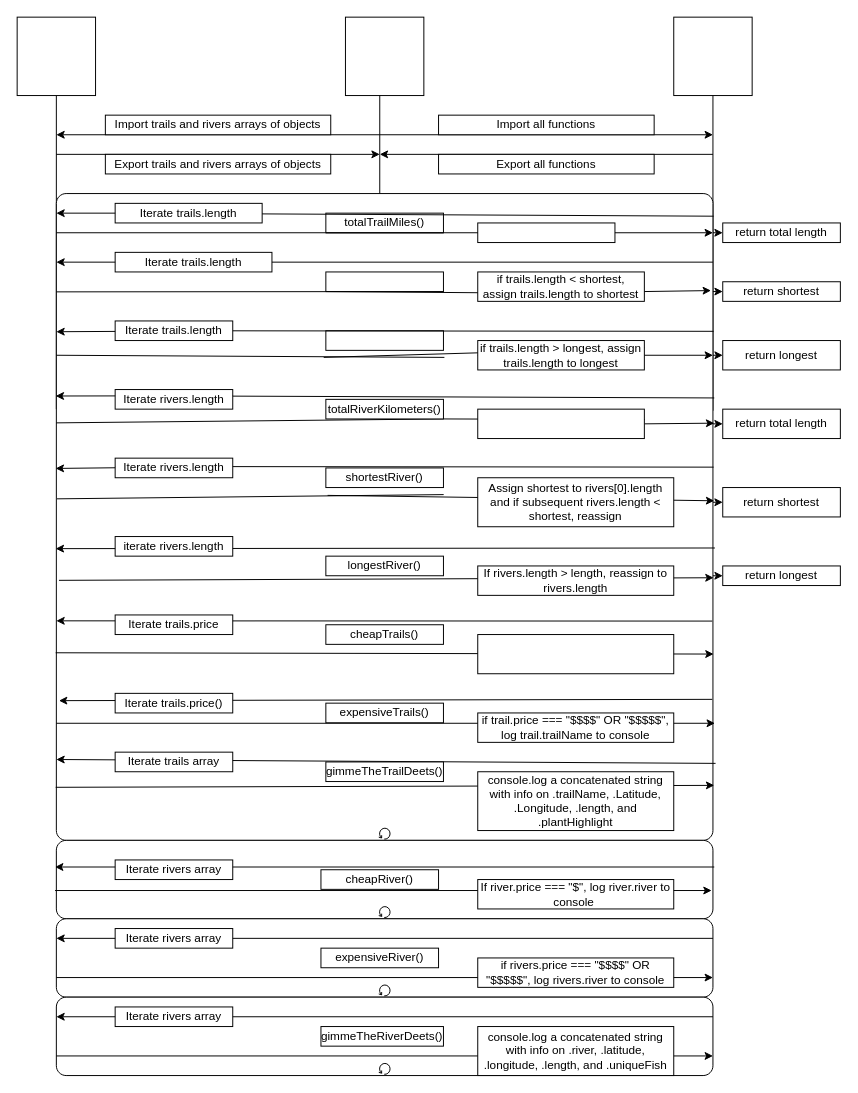
This 858x1093 diagram has some shape labels left out. The centre of each missing label's shape, as x and y in pixels:
Add rivers.length to total: the point at 560,423
Add trail.length to total: the point at 546,232
adventure.js: the point at 384,56
data.js: the point at 56,56
function.js: the point at 712,56
If trail.price === "&", log trail.trailName to console: the point at 575,654
longTrail(): the point at 384,340
shortestTrail(): the point at 384,281
